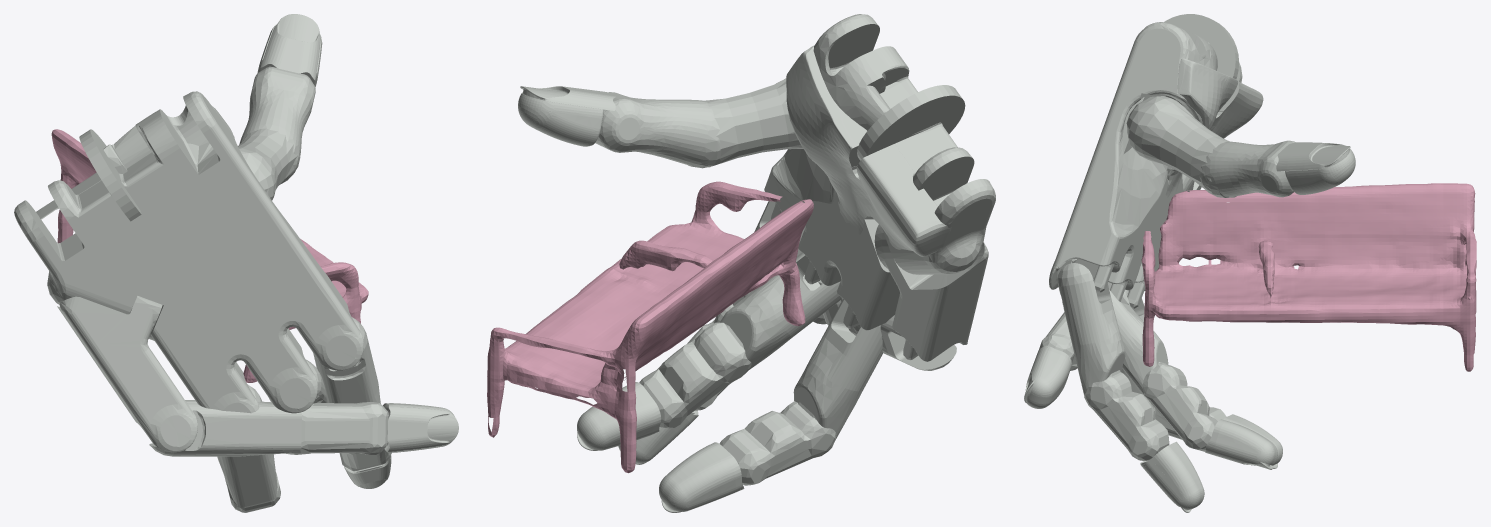
3 views of the same model, side by side, from view 1: azimuth 30°, elevation 25°; view 2: azimuth 150°, elevation 25°; view 3: azimuth 270°, elevation 25° (orthographic). The views are drawn at different scales.
Visible parts, largest first — view 1: hand_isaac_q, world; view 2: hand_isaac_q, world; view 3: hand_isaac_q, world.
Part boxes in pixels (x1,y1,x2,y2): hand_isaac_q: (14,14,458,512); world: (51,129,368,382); hand_isaac_q: (518,14,995,512); world: (487,181,813,473); hand_isaac_q: (1024,14,1355,512); world: (1141,183,1476,371).
Size of the model in its own units: 0.1496 by 0.1751 by 0.1771.
